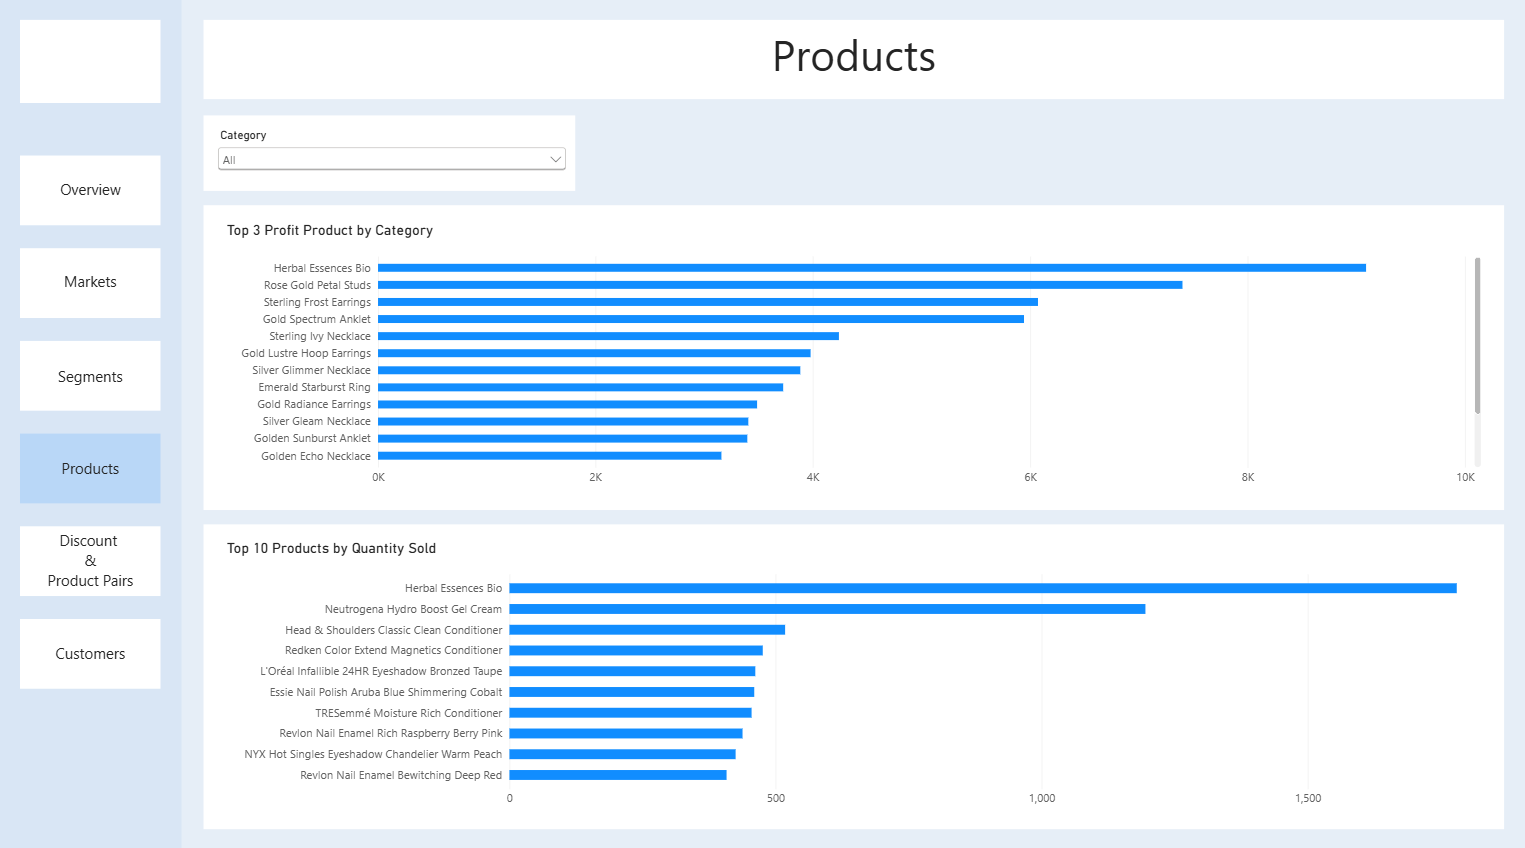

The page's visual inventory and layout, read from the dashboard file:
{"tool":"powerbi","page":{"name":"Products","canvas":[1920,1080],"ordinal":3},"visuals":[{"type":"clusteredBarChart","title":"Top 10 Products by Quantity Sold","fields":{"Category":["q03_top_10_products.product_name"],"Y":["Sum(q03_top_10_products.total_quantity)"]},"box":[270.6,669.7,1607.1,370.4],"z":0},{"type":"clusteredBarChart","title":"Top 3 Profit Product by Category","fields":{"Category":["q12_top_3_profit_products_by_category.product_name"],"Y":["Sum(q12_top_3_profit_products_by_category.total_profit)"]},"box":[270.6,270.6,1607.1,365.9],"z":1000},{"type":"slicer","fields":{"Values":["q12_top_3_profit_products_by_category.category"]},"box":[270,168.6,447.1,71.4],"z":2000},{"type":"textbox","box":[258.6,37.1,1630,90],"z":3000},{"type":"textbox","box":[27.1,231.4,174.3,55.7],"z":4000},{"type":"textbox","box":[27.1,347.1,174.3,57.1],"z":5000},{"type":"textbox","box":[27.1,465.7,174.3,55.7],"z":6000},{"type":"textbox","box":[27.1,581.4,174.3,55.7],"z":7000},{"type":"textbox","box":[27.1,671.4,174.3,81.4],"z":8000},{"type":"textbox","box":[27.1,814.3,174.3,55.7],"z":9000},{"type":"actionButton","box":[27.1,204.3,174.3,82.9],"z":9001},{"type":"actionButton","box":[27.1,322.9,174.3,80],"z":9002},{"type":"actionButton","box":[27.1,437.1,174.3,84.3],"z":9003},{"type":"actionButton","box":[27.1,554.3,174.3,82.9],"z":9004},{"type":"actionButton","box":[27.1,671.4,174.3,81.4],"z":9005},{"type":"actionButton","box":[27.1,784.3,174.3,85.7],"z":9006}]}

Visuals, with their boxes on the page's 1920x1080 design canvas (x1, y1, x2, y2). These are canvas units, not pixel positions in the 1525x848 screenshot, which may show the page scaled, cropped or inside an application window:
"Top 10 Products by Quantity Sold" clusteredBarChart: (x1=271, y1=670, x2=1878, y2=1040)
"Top 3 Profit Product by Category" clusteredBarChart: (x1=271, y1=271, x2=1878, y2=636)
slicer - q12_top_3_profit_products_by_category.category: (x1=270, y1=169, x2=717, y2=240)
textbox: (x1=259, y1=37, x2=1889, y2=127)
textbox: (x1=27, y1=231, x2=201, y2=287)
textbox: (x1=27, y1=347, x2=201, y2=404)
textbox: (x1=27, y1=466, x2=201, y2=521)
textbox: (x1=27, y1=581, x2=201, y2=637)
textbox: (x1=27, y1=671, x2=201, y2=753)
textbox: (x1=27, y1=814, x2=201, y2=870)
actionButton: (x1=27, y1=204, x2=201, y2=287)
actionButton: (x1=27, y1=323, x2=201, y2=403)
actionButton: (x1=27, y1=437, x2=201, y2=521)
actionButton: (x1=27, y1=554, x2=201, y2=637)
actionButton: (x1=27, y1=671, x2=201, y2=753)
actionButton: (x1=27, y1=784, x2=201, y2=870)
